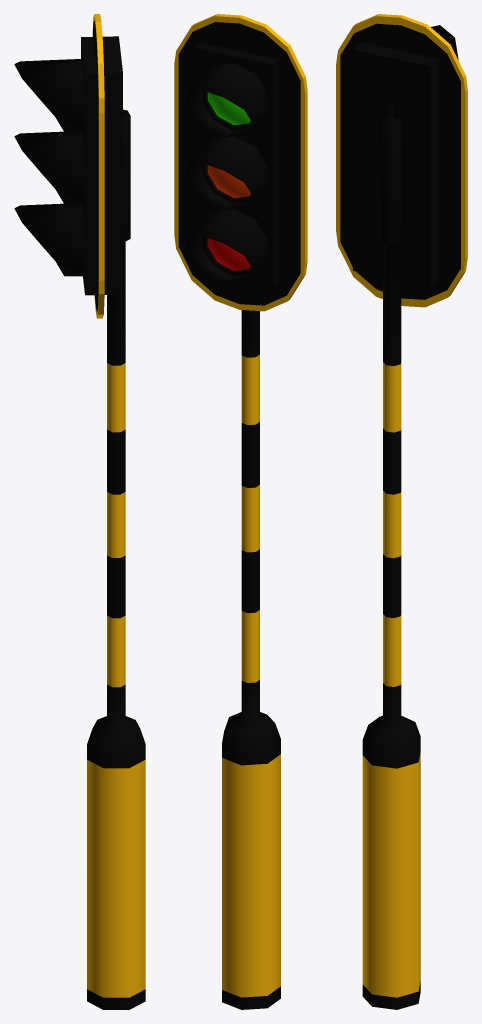
The model's file is trafficlight1.FBX.
3 views of the same model, side by side, from view 1: azimuth 90°, elevation 25°; view 2: azimuth 150°, elevation 25°; view 3: azimuth 330°, elevation 25° (orthographic).
Parts seen in each view (by area): view 1: trafficlight1; view 2: trafficlight1, orangelight, redlight, greenlight; view 3: trafficlight1.
Boxes of the visible parts, x1,y1,x2,y2 form: trafficlight1: (14, 14, 145, 1009); trafficlight1: (174, 14, 307, 1009); orangelight: (207, 165, 250, 197); redlight: (207, 238, 250, 270); greenlight: (207, 92, 250, 125); trafficlight1: (336, 14, 467, 1009).
Size of the model in its own units: 48.12 by 355 by 43.38.
